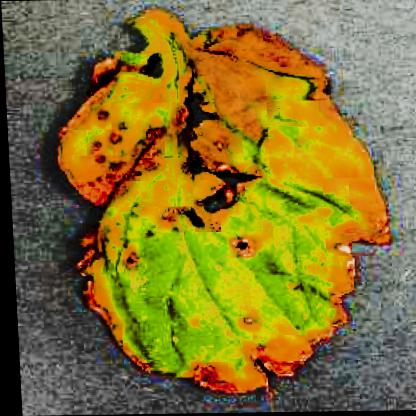BACTERIAL SPOT: (46, 6, 398, 402)
